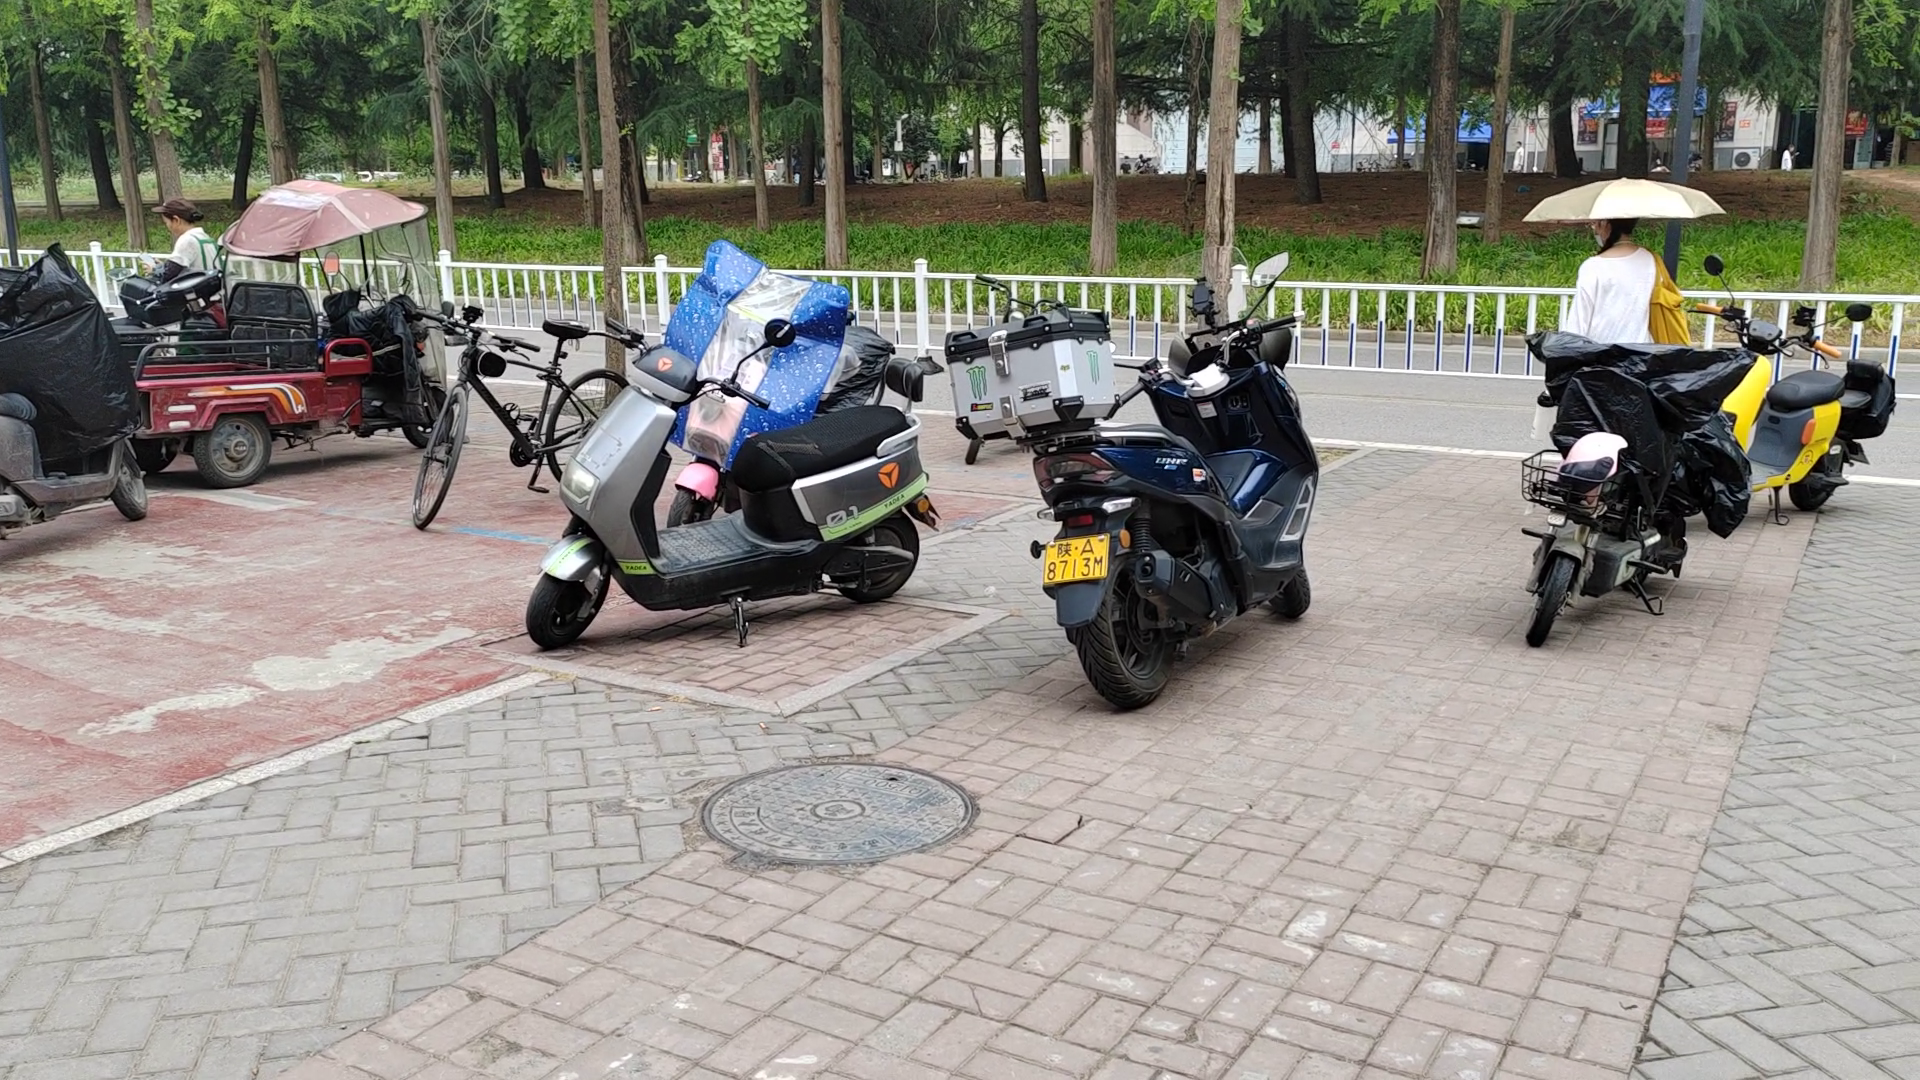others: (942, 277, 1364, 684), (533, 264, 936, 687), (1545, 313, 1741, 659), (400, 287, 624, 541), (1717, 261, 1917, 539), (11, 286, 154, 572)
